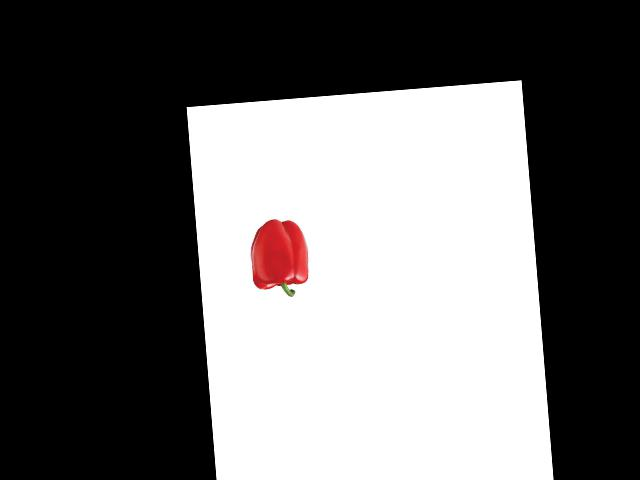bell_pepper: (244, 214, 314, 300)
